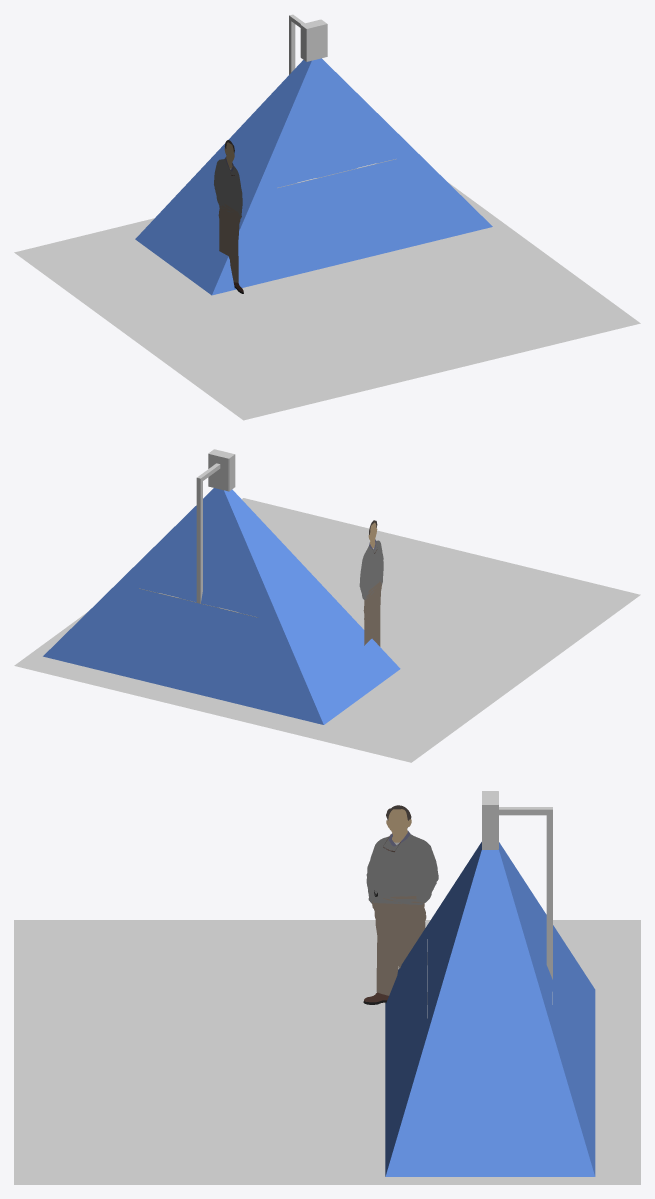
Rendered from SET_07_Mesa_Piramides.obj.
3 renders of one model, top to bottom at view 1: azimuth 30°, elevation 25°; view 2: azimuth 150°, elevation 25°; view 3: azimuth 270°, elevation 25°, orthographic. The views are drawn at different scales.
Parts seen in each view (by area): view 1: Mesh2 Component_9_1 Model, Mesh12 Component_67_1 Component_66_1 Component_65_1 Component_74, Mesh1 Derrick1 Model, Mesh13 Component_6_1 Component_66_1 Component_65_1 Component_74_; view 2: Mesh2 Component_9_1 Model, Mesh12 Component_67_1 Component_66_1 Component_65_1 Component_74, Mesh1 Derrick1 Model, Mesh15 Component_71_1 Component_73_1 Component_74_1 Component_79, Mesh16 Component_72_1 Component_73_1 Component_74_1 Component_79; view 3: Mesh2 Component_9_1 Model, Mesh12 Component_67_1 Component_66_1 Component_65_1 Component_74, Mesh1 Derrick1 Model, Mesh15 Component_71_1 Component_73_1 Component_74_1 Component_79, Mesh13 Component_6_1 Component_66_1 Component_65_1 Component_74_.
Boxes of the visible parts, x1,y1,x2,y2 form: Mesh2 Component_9_1 Model: (14,182,640,420); Mesh12 Component_67_1 Component_66_1 Component_65_1 Component_74: (135,58,492,295); Mesh1 Derrick1 Model: (214,140,243,293); Mesh13 Component_6_1 Component_66_1 Component_65_1 Component_74_: (300,19,327,61); Mesh2 Component_9_1 Model: (14,498,640,762); Mesh12 Component_67_1 Component_66_1 Component_65_1 Component_74: (43,488,400,724); Mesh1 Derrick1 Model: (359,520,383,646); Mesh15 Component_71_1 Component_73_1 Component_74_1 Component_79: (196,463,220,603); Mesh16 Component_72_1 Component_73_1 Component_74_1 Component_79: (208,454,228,490); Mesh2 Component_9_1 Model: (14,920,640,1184); Mesh12 Component_67_1 Component_66_1 Component_65_1 Component_74: (385,842,595,1176); Mesh1 Derrick1 Model: (363,805,438,1004); Mesh15 Component_71_1 Component_73_1 Component_74_1 Component_79: (499,807,552,979); Mesh13 Component_6_1 Component_66_1 Component_65_1 Component_74_: (482,791,498,849).
Size of the model in its own units: 5000 by 2510 by 5000.
